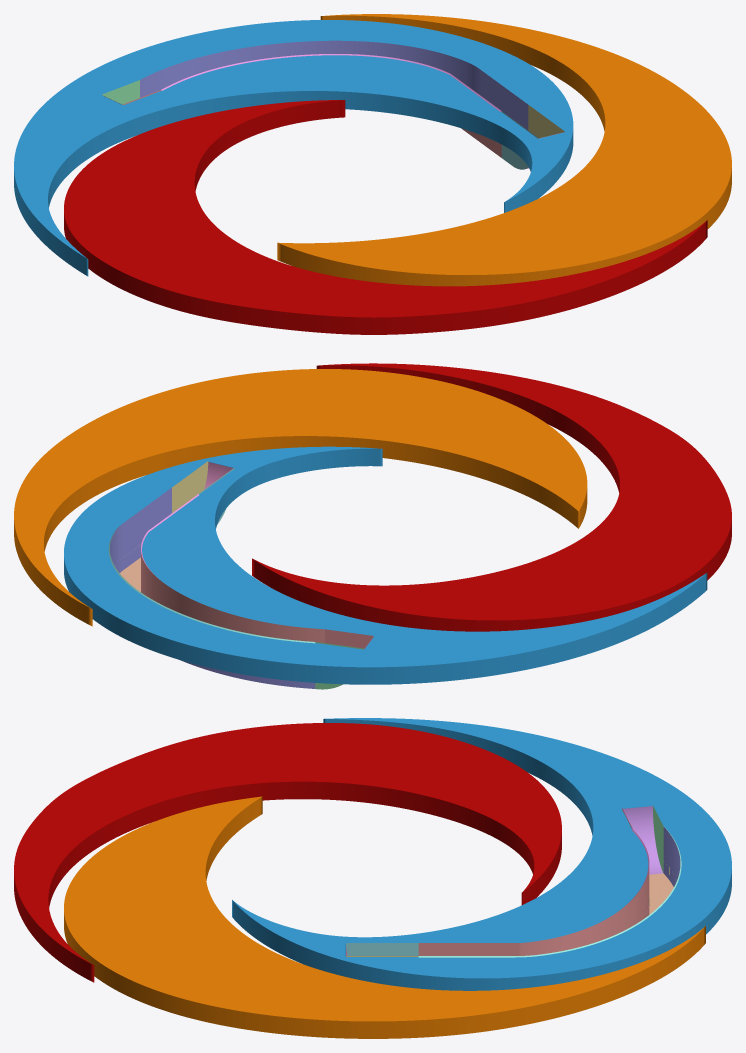
The model's file is corridor-ribbons-thin.glb.
The picture shows the model from 3 angles, top to bottom: view 1: azimuth 30°, elevation 25°; view 2: azimuth 150°, elevation 25°; view 3: azimuth 270°, elevation 25°; orthographic projection.
Visible parts, largest first — view 1: Swoosh • Red.001, Swoosh • Orange.001, Swoosh • Blue.001, Red corridor wall • separate from logo.001, FIX | Capped Connecting plane • joins yellow tip.001, Slide A | Behind theatre marked end | Side 1.001, Slide B | Opposite corridor end | Side -1.001; view 2: Swoosh • Orange.001, Swoosh • Blue.001, Swoosh • Red.001, Connecting plane • joins yellow tip.001, Red corridor wall • separate from logo.001, Slide A | Behind theatre marked end | Side 1.001, Slide B | Opposite corridor end | Side 1.001, FIX | Capped Red corridor wall • separate from logo.001; view 3: Swoosh • Orange.001, Swoosh • Red.001, Swoosh • Blue.001, Connecting plane • joins yellow tip.001, Slide B | Opposite corridor end.001, Slide A | Behind theatre marked end | Side -1.001, Red corridor wall • separate from logo.001, Plain floor • red to connecting plane.001, FIX | Capped Red corridor wall • separate from logo.001.
Boxes of the visible parts, x1,y1,x2,y2 form: Swoosh • Red.001: (64, 100, 707, 334); Swoosh • Orange.001: (277, 14, 731, 286); Swoosh • Blue.001: (14, 20, 573, 276); Red corridor wall • separate from logo.001: (140, 40, 528, 129); FIX | Capped Connecting plane • joins yellow tip.001: (161, 54, 501, 111); Slide A | Behind theatre marked end | Side 1.001: (528, 105, 564, 138); Slide B | Opposite corridor end | Side -1.001: (102, 80, 139, 104); Swoosh • Orange.001: (14, 369, 587, 626); Swoosh • Blue.001: (64, 446, 707, 684); Swoosh • Red.001: (252, 363, 731, 631); Connecting plane • joins yellow tip.001: (141, 552, 324, 643); Red corridor wall • separate from logo.001: (110, 488, 315, 688); Slide A | Behind theatre marked end | Side 1.001: (172, 461, 208, 512); Slide B | Opposite corridor end | Side 1.001: (325, 629, 373, 648); FIX | Capped Red corridor wall • separate from logo.001: (108, 524, 315, 643); Swoosh • Orange.001: (64, 796, 705, 1038); Swoosh • Red.001: (14, 723, 561, 982); Swoosh • Blue.001: (232, 718, 731, 990); Connecting plane • joins yellow tip.001: (418, 868, 649, 955); Slide B | Opposite corridor end.001: (623, 806, 662, 874); Slide A | Behind theatre marked end | Side -1.001: (346, 943, 418, 955); Red corridor wall • separate from logo.001: (663, 827, 680, 886); Plain floor • red to connecting plane.001: (649, 873, 673, 914); FIX | Capped Red corridor wall • separate from logo.001: (418, 827, 681, 957).
Size of the model in its own units: 399 by 28.91 by 399.
